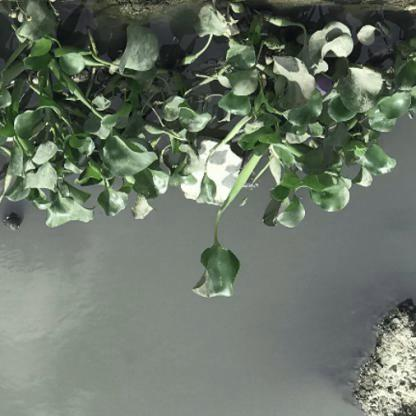Trash: (168, 139, 240, 209), (1, 207, 26, 231)
